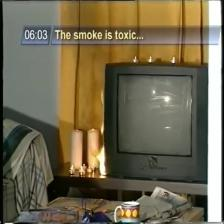fire: (96, 126, 107, 177)
